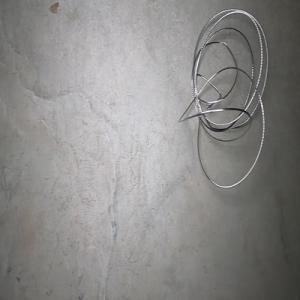Wire: (178, 8, 268, 188)
